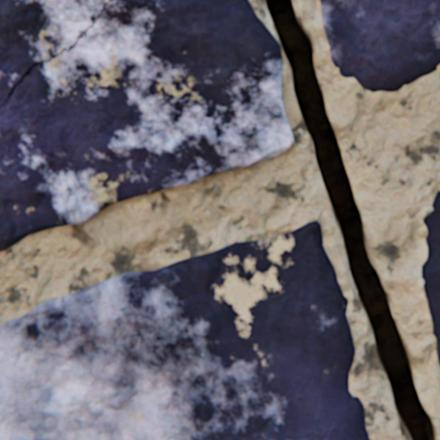brick: (0, 220, 369, 439), (0, 0, 294, 250), (320, 0, 439, 92), (421, 191, 439, 364)
crack: (264, 0, 438, 439), (0, 0, 114, 107)
